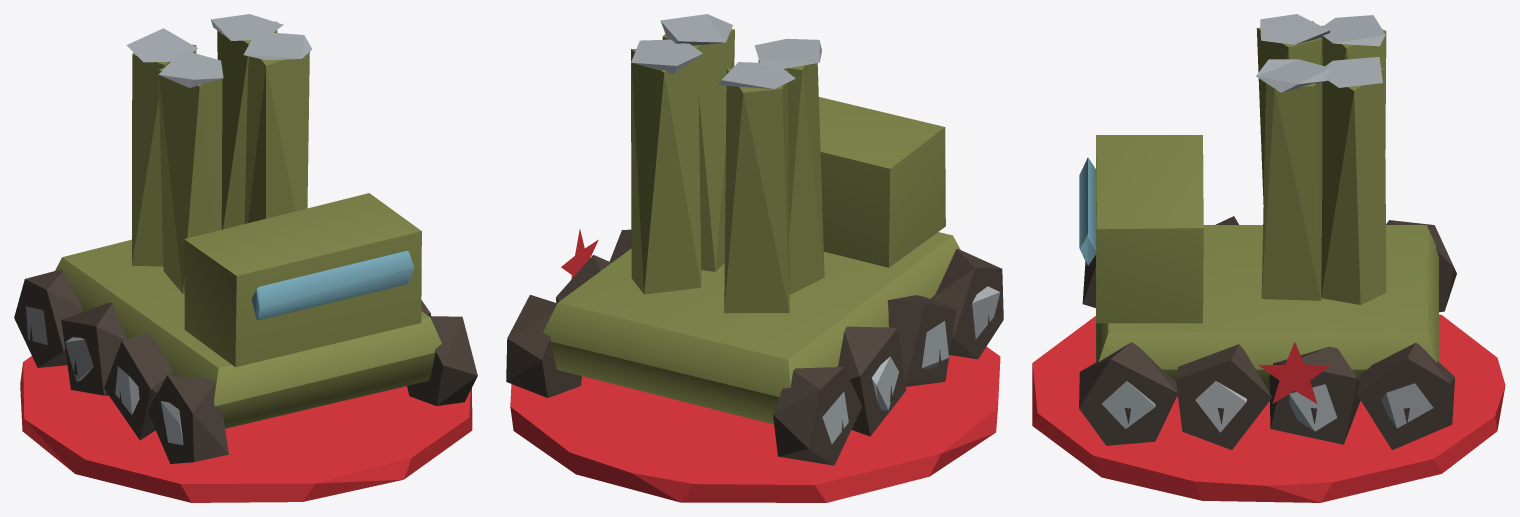
Rendered from soviet_union_missile_lod1.glb.
The picture shows the model from 3 angles, left to right: view 1: azimuth 30°, elevation 25°; view 2: azimuth 150°, elevation 25°; view 3: azimuth 270°, elevation 25°; orthographic projection. The views are drawn at different scales.
Visible parts, largest first — view 1: body_hull, base_pedestal; view 2: body_hull, base_pedestal; view 3: body_hull, base_pedestal.
Boxes of the visible parts, x1,y1,x2,y2 form: body_hull: (14,14,477,463); base_pedestal: (20,356,472,502); body_hull: (506,14,1003,465); base_pedestal: (510,346,1000,502); body_hull: (1079,14,1456,450); base_pedestal: (1032,314,1505,502).
Size of the model in its own units: 0.7751 by 0.644 by 0.7751.
